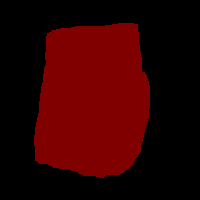mutande: (34, 23, 150, 178)
